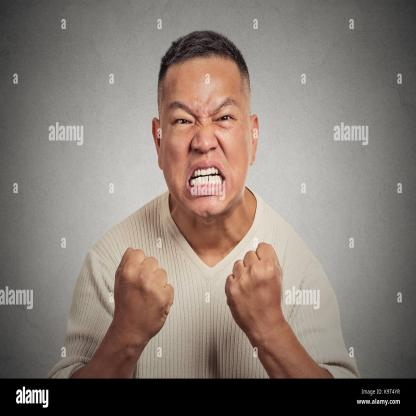fist: (112, 245, 176, 343), (224, 241, 285, 334)
